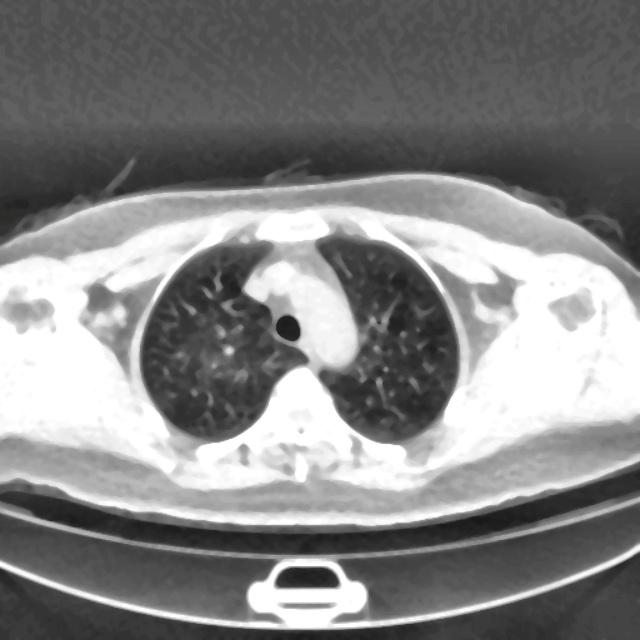covid: (0, 169, 639, 534)
